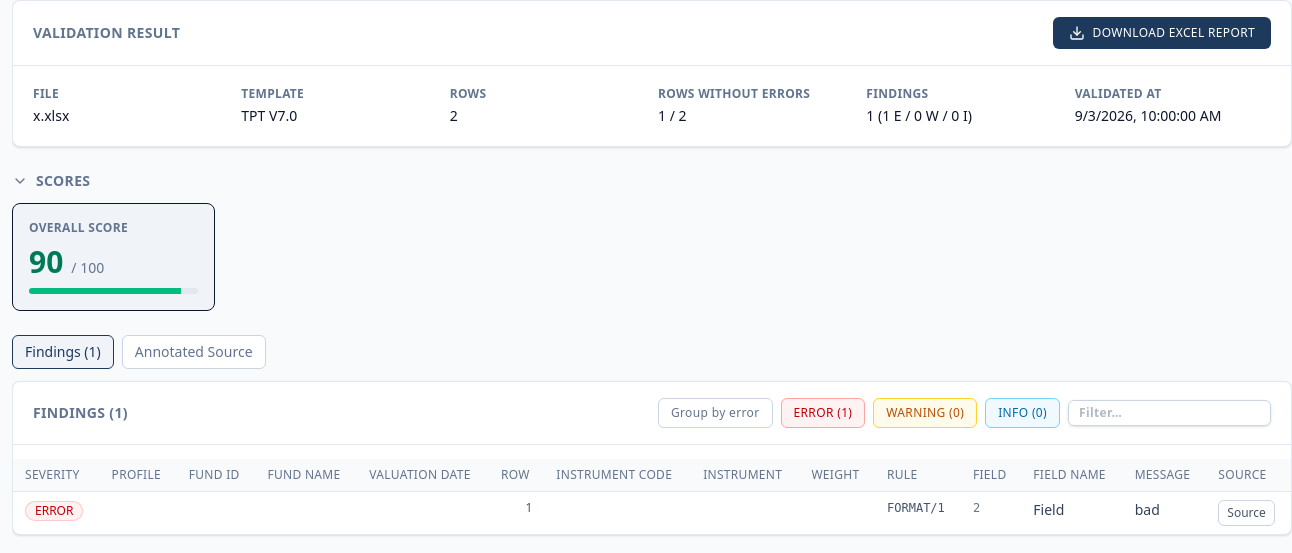
it: ResultPanel › replaces the link after the one allowed download
What coordinates should you click on to do the following:
click the link "Download Excel report"
I would click on:
 (1162, 33)
Its box is x1=1053 y1=17 x2=1271 y2=49.
Wait 300000 ms
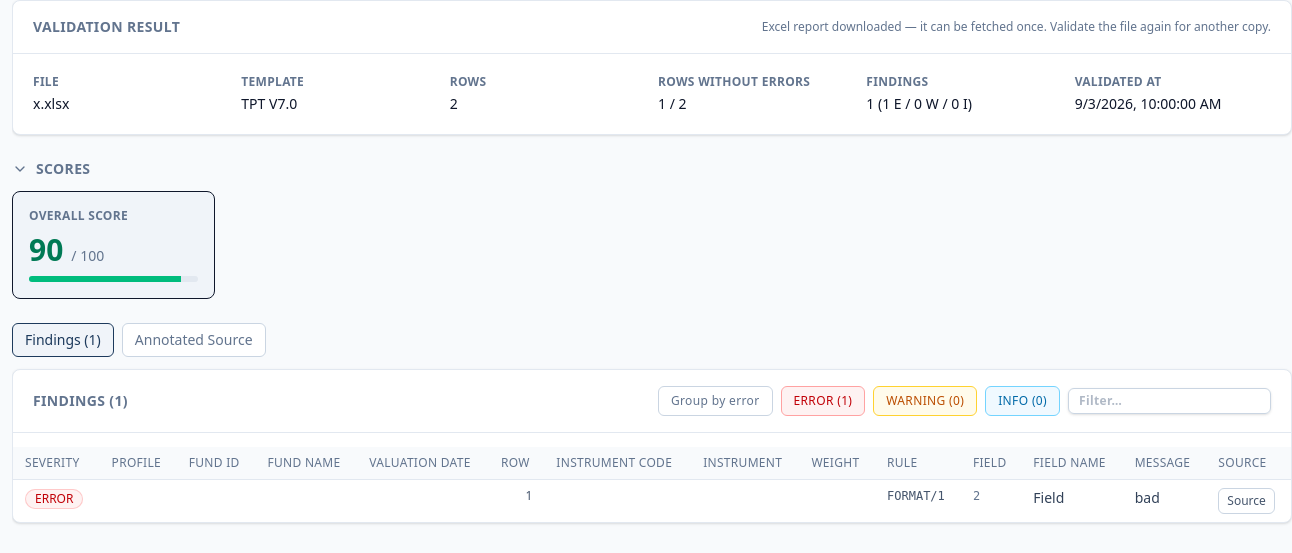
expect the link "Download Excel report" is gone: met
expect the message shows "Excel report downloaded": met, box x1=762 y1=18 x2=1271 y2=35
